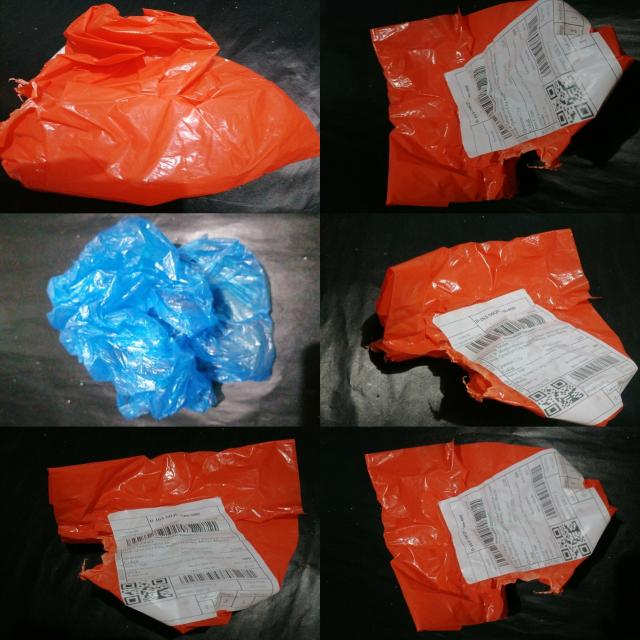Single-layer Plastic: (0, 5, 319, 205), (370, 0, 633, 206), (372, 229, 637, 425), (49, 440, 303, 632), (366, 442, 615, 631), (48, 216, 275, 419)
